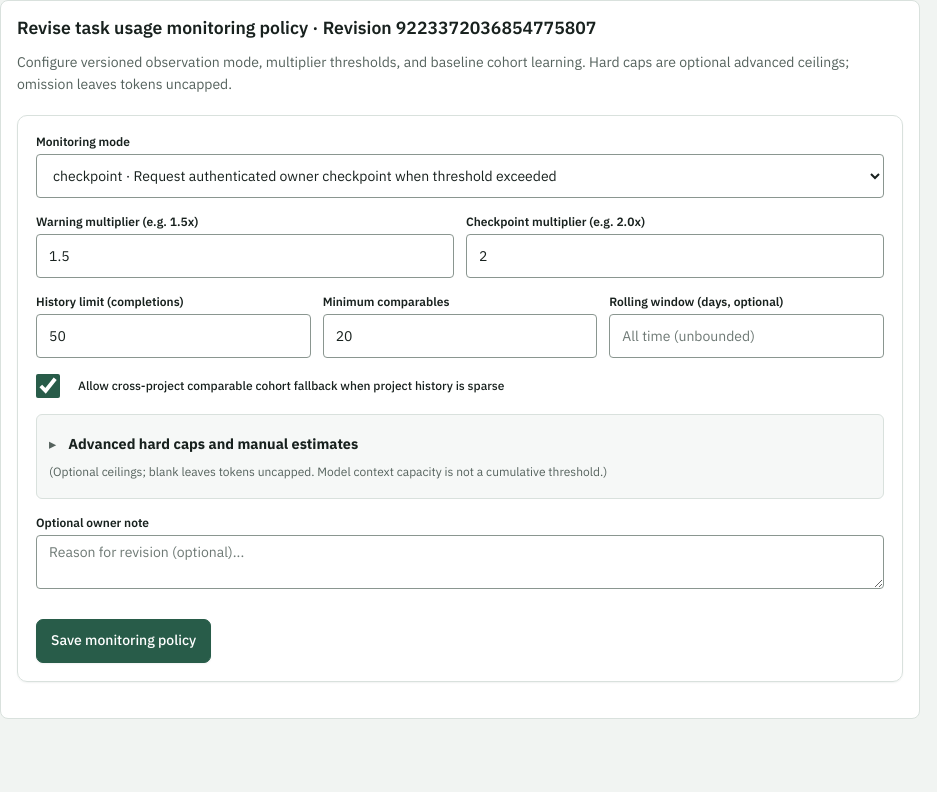
Test case: MonitoringPolicySummary and MonitoringPolicyEditor › MonitoringPolicyEditor › refuses a revision beyond the signed64 successor boundary before saving
The image size is (937, 792).
Click the button "Save monitoring policy".
click(124, 641)  # box [36,619,211,663]
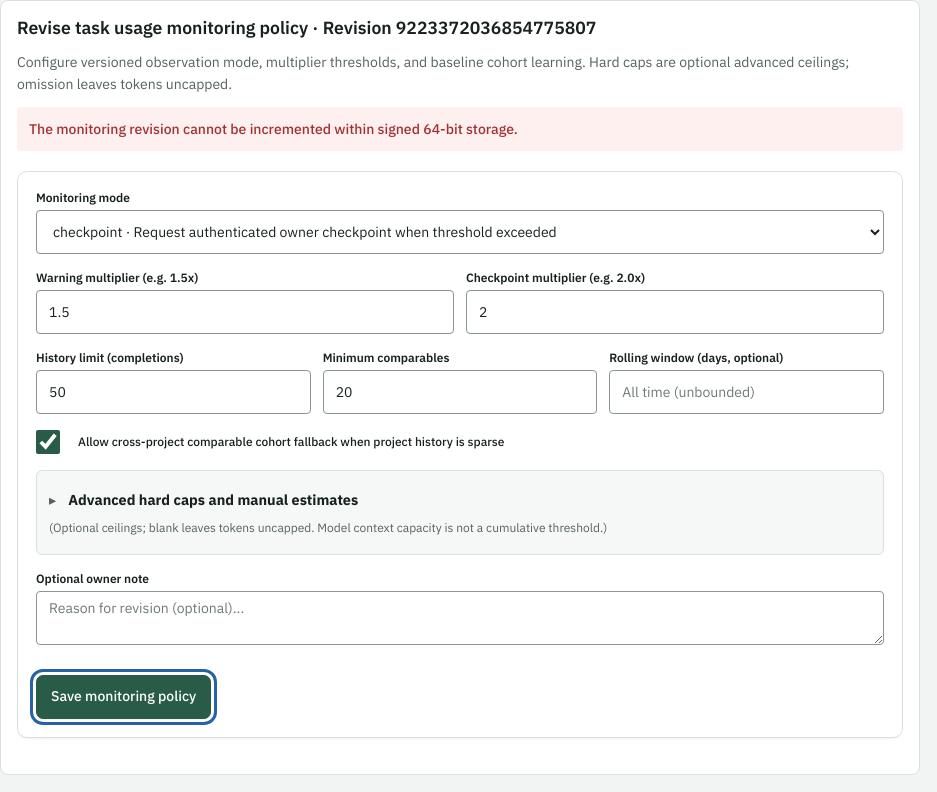
Check: the text "The monitoring revision cannot be incremented within signed 64-bit storage." is shown, box [17,107,903,151]
